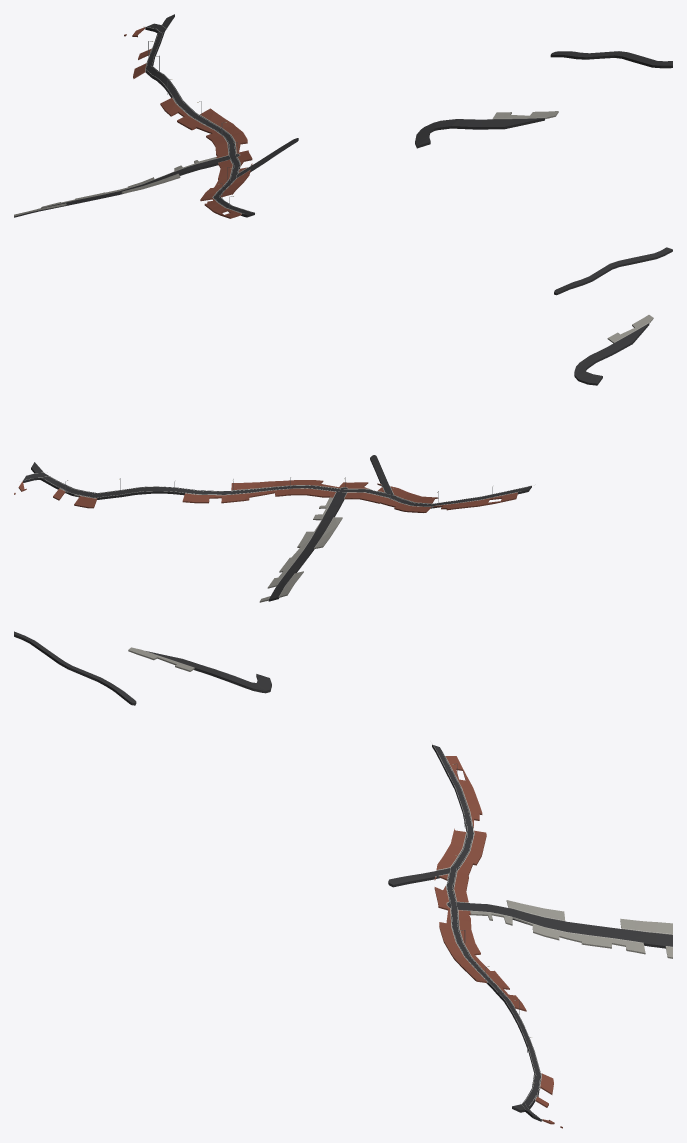
The picture shows the model from 3 angles, top to bottom: view 1: azimuth 90°, elevation 25°; view 2: azimuth 150°, elevation 25°; view 3: azimuth 270°, elevation 25°; orthographic projection. The views are drawn at different scales.
Size of the model in its own units: 297 by 117 by 292.
